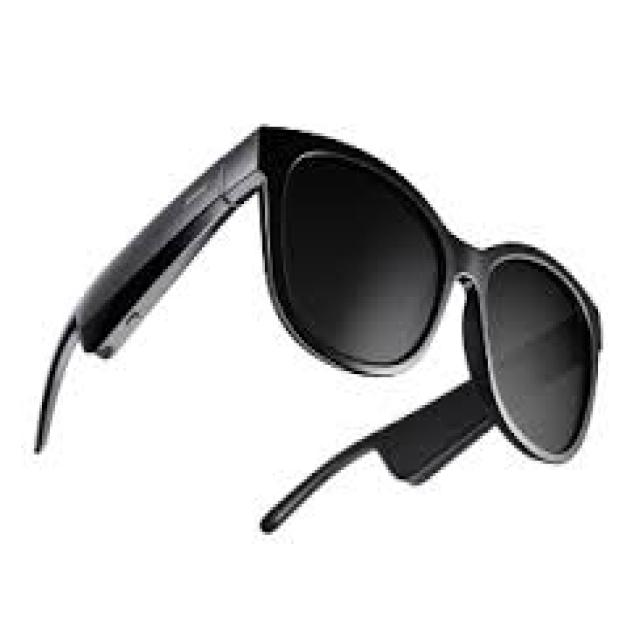sunglasses: (182, 104, 623, 478)
